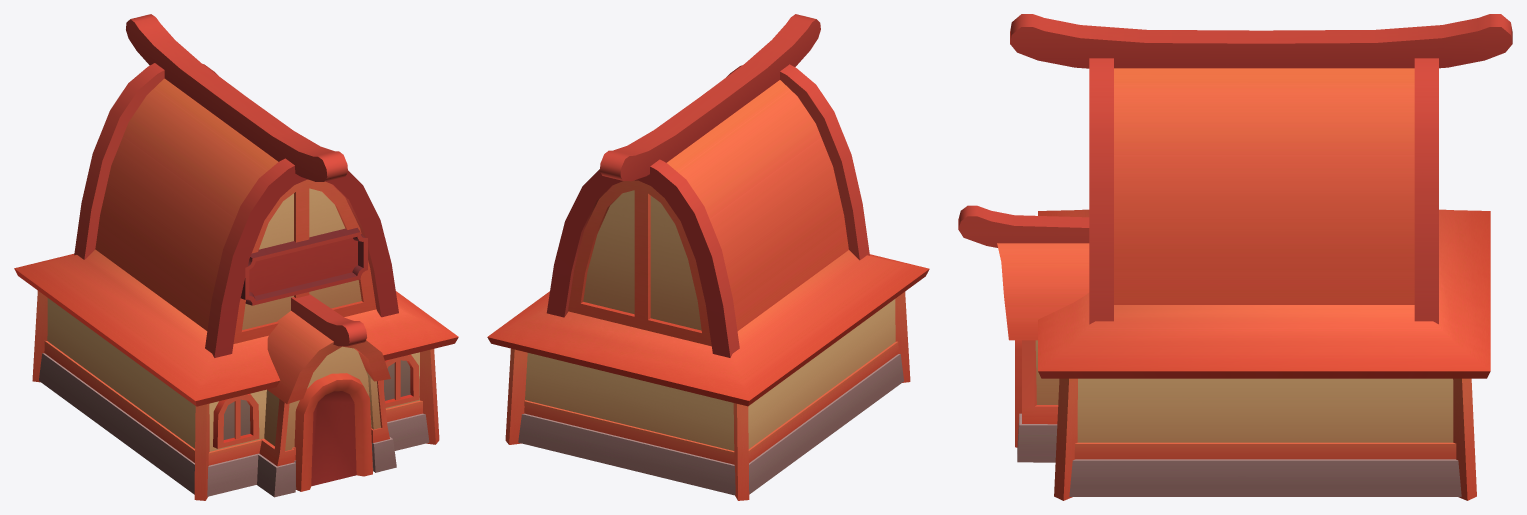
The model's file is Tavern.fbx.
3 renders of one model, left to right at view 1: azimuth 30°, elevation 25°; view 2: azimuth 150°, elevation 25°; view 3: azimuth 270°, elevation 25°, orthographic. The views are drawn at different scales.
Visible parts, largest first — view 1: Cube.213; view 2: Cube.213; view 3: Cube.213.
Part boxes in pixels (<box>): Cube.213: <box>14,14,458,500</box>; Cube.213: <box>487,14,929,500</box>; Cube.213: <box>958,14,1512,500</box>.
Size of the model in its own units: 1.16 by 1.37 by 1.7.
